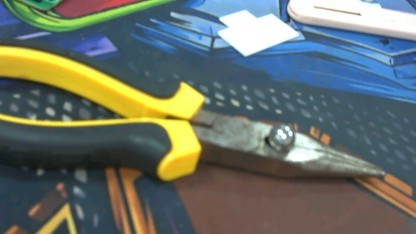ironball: (264, 118, 296, 148)
